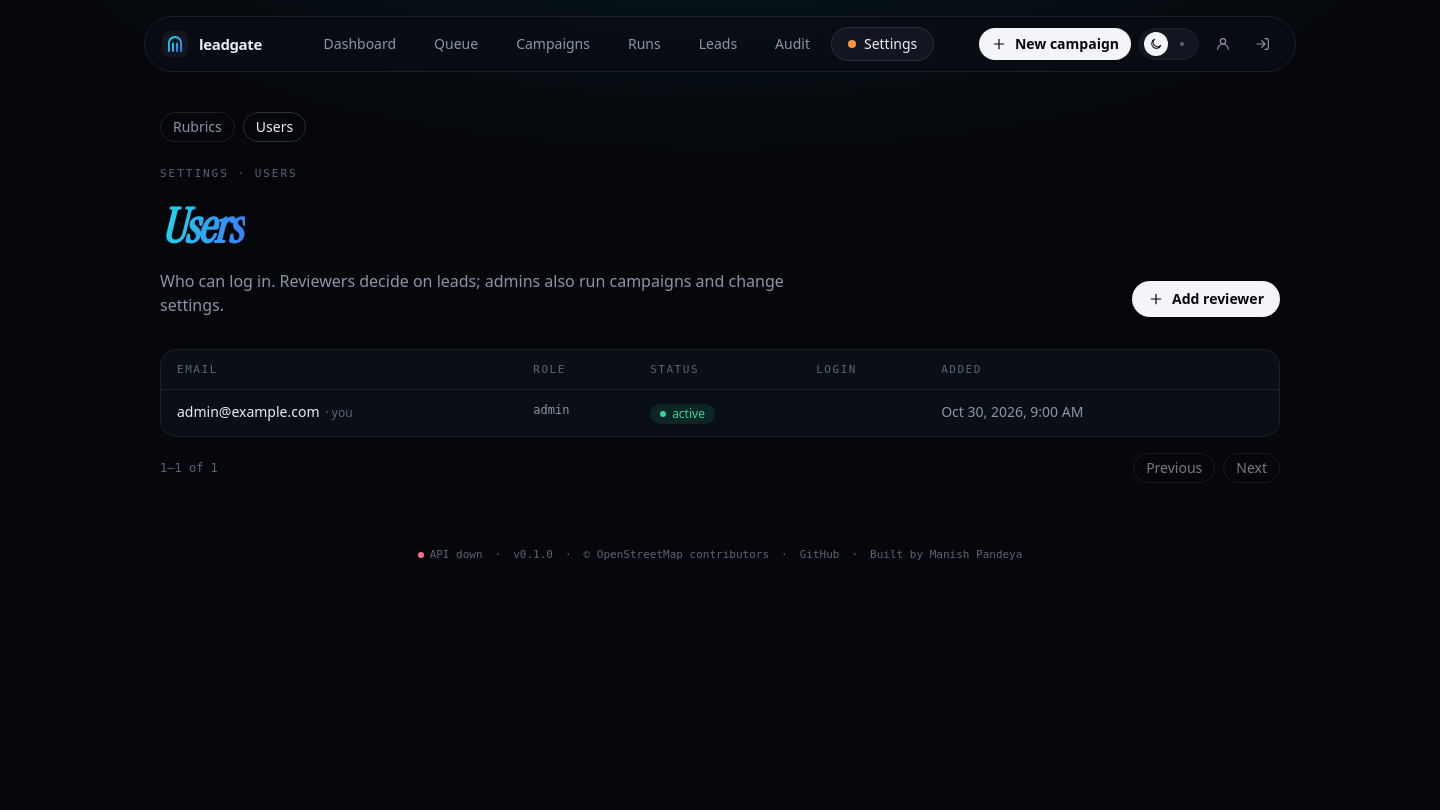
Test: UsersPage › adds a reviewer
The image size is (1440, 810).
Step 1. Click the button "Add reviewer" → (1206, 298), box 1132,280 -> 1280,316
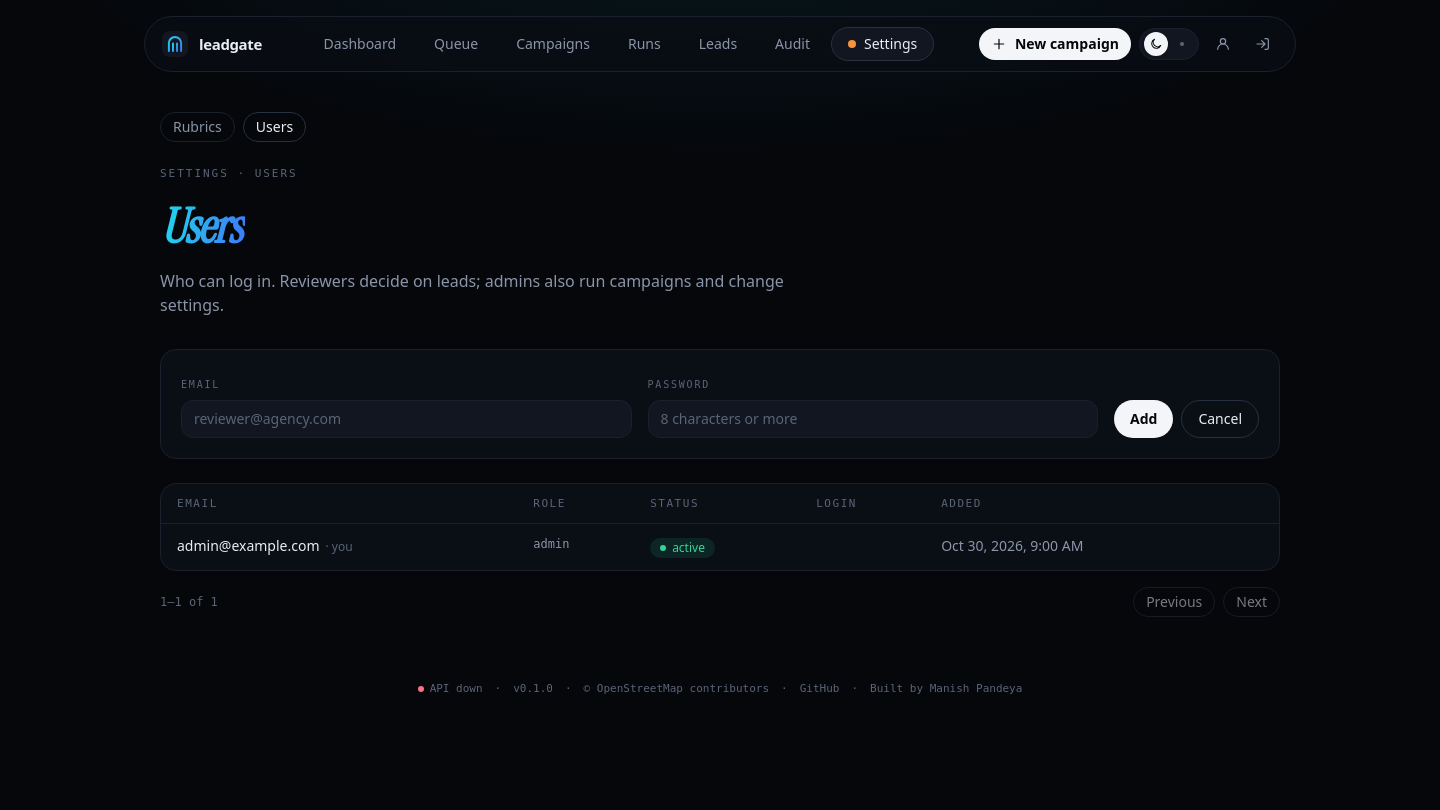
Step 2. Type "sam@agency.test" into the field labelled "Email" → (406, 418), box 181,400 -> 632,438
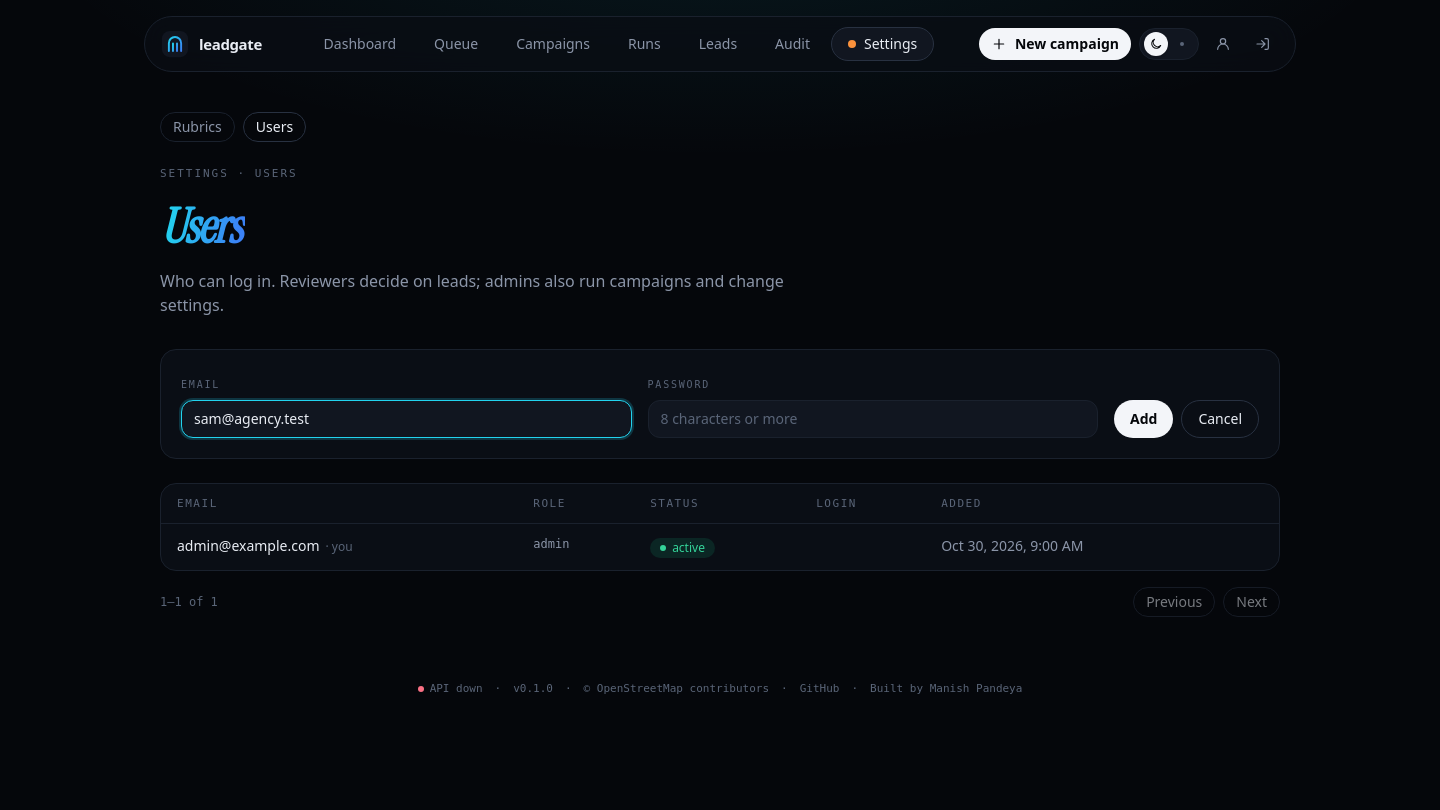
Step 3. Type "long-enough-1" into the password field labelled "Password" → (873, 418), box 648,400 -> 1098,438
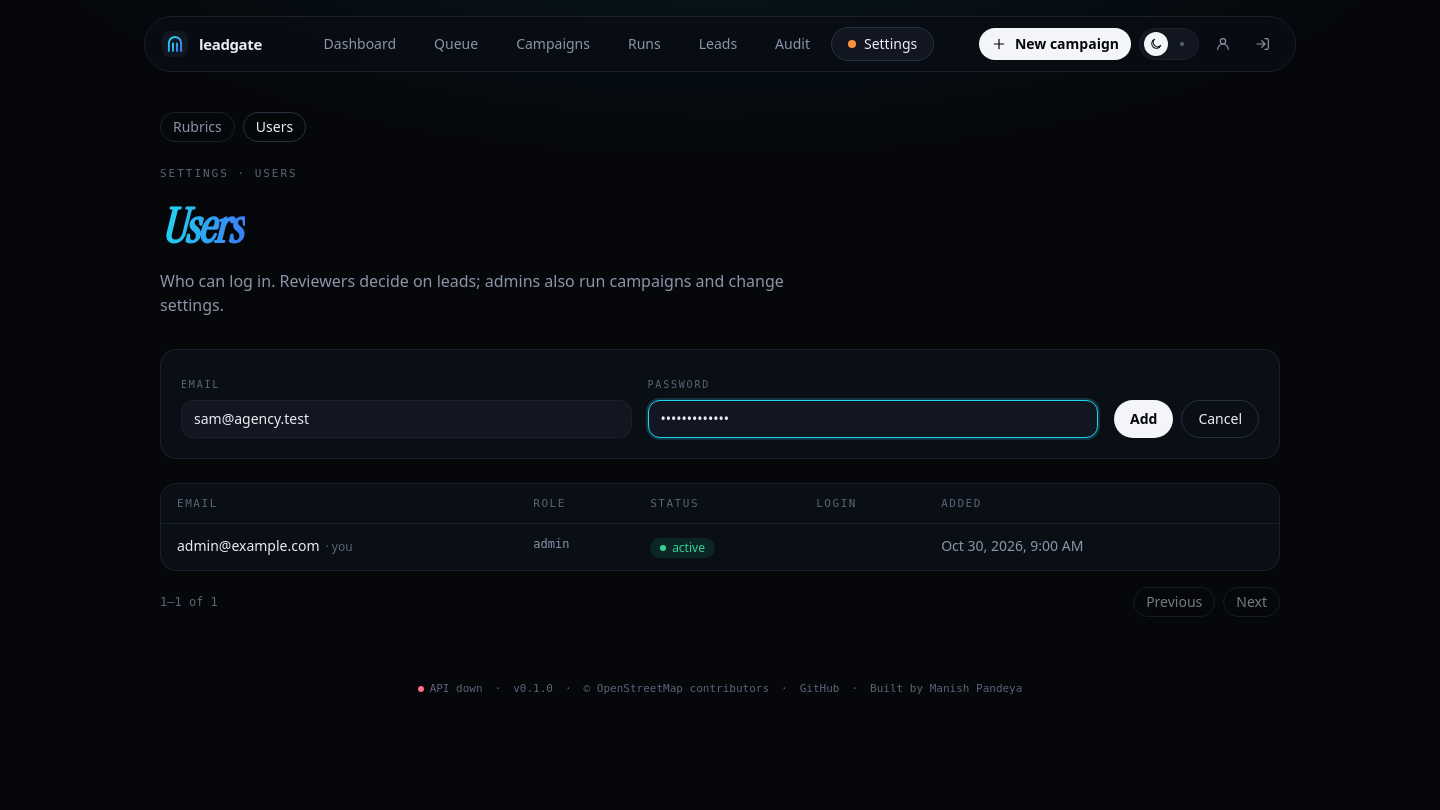
Step 4. Click the button "Add" → (1144, 418), box 1114,400 -> 1173,438
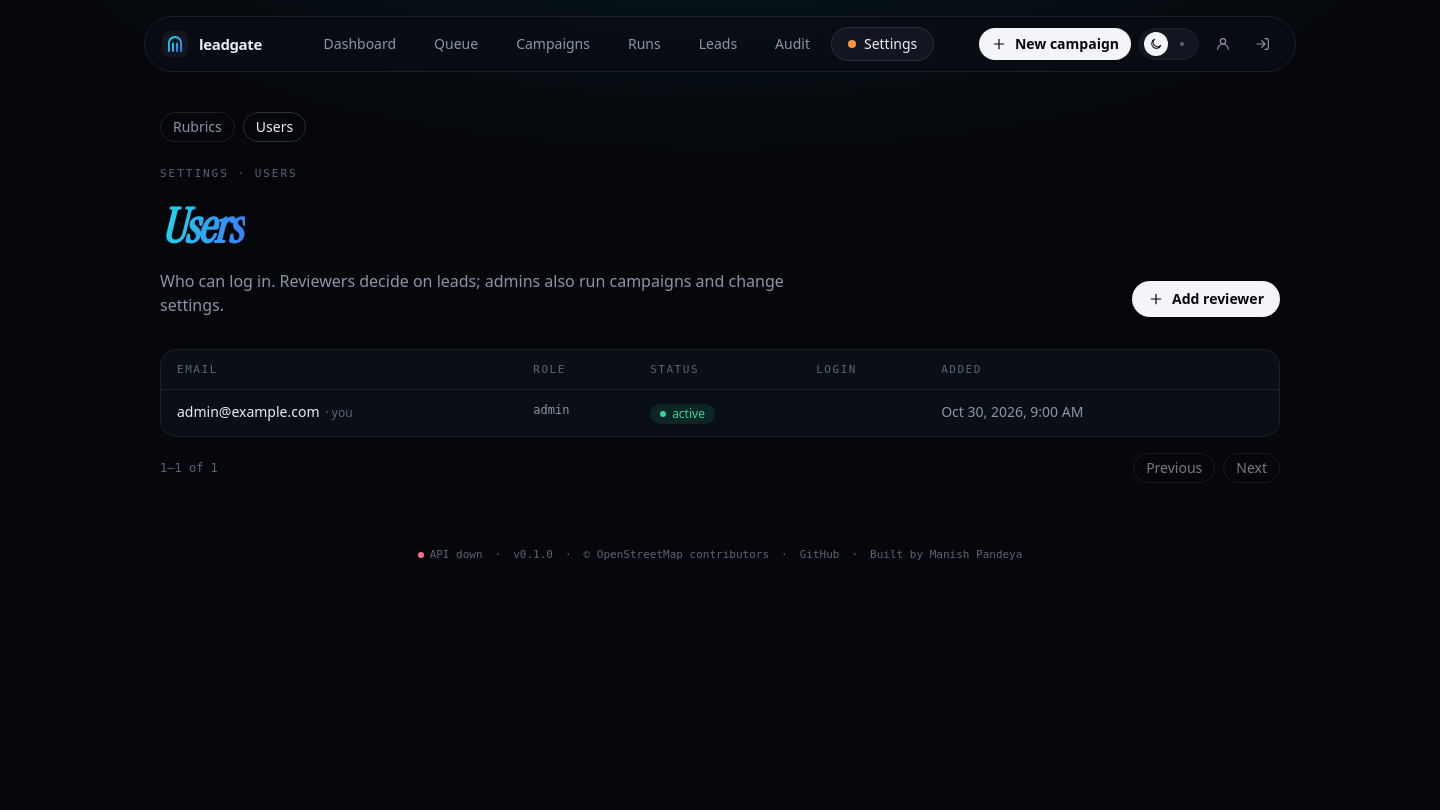
Expected: the text labelled "Password" is gone
